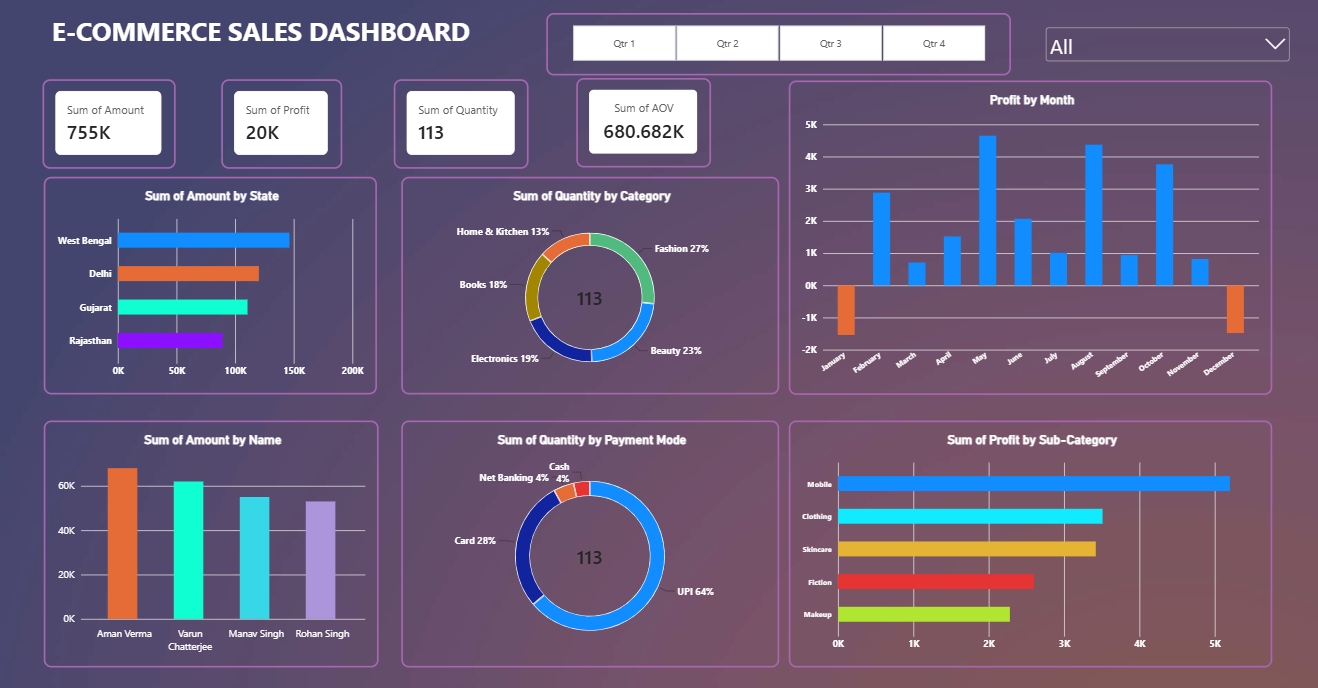

Layout of this report page (visuals, bound fields, positions):
{"tool":"powerbi","page":{"name":"Page 1","canvas":[1920,1080],"ordinal":0},"visuals":[{"type":"textbox","box":[0,57.9,765.5,77.8],"z":0},{"type":"textbox","box":[10.9,365.6,755,280],"z":1000},{"type":"textbox","box":[10,580,755,280],"z":2000},{"type":"textbox","box":[36,220,301,150],"z":3000},{"type":"textbox","box":[724,218,377,150],"z":4000},{"type":"columnChart","title":"Profit by Month","fields":{"Category":["sheet2.Date.Variation.Date Hierarchy.Month"],"Y":["Sum(sheet1.Profit)"]},"box":[1142.5,155,700,455],"z":5000},{"type":"barChart","fields":{"Category":["sheet1.Sub-Category"],"Y":["Sum(sheet1.Profit)"]},"box":[1142.5,647.5,700,357.5],"z":6000},{"type":"donutChart","fields":{"Category":["sheet1.Category"],"Y":["Sum(sheet1.Quantity)"]},"box":[580,295,547.5,315],"z":7000},{"type":"donutChart","fields":{"Y":["Sum(sheet1.Quantity)"],"Category":["sheet1.Payment Mode"]},"box":[580,647.5,547.5,357.5],"z":8000},{"type":"cardVisual","fields":{"Data":["Sum(sheet1.Amount)"]},"box":[61.7,154.4,192.6,129.4],"z":9000},{"type":"cardVisual","fields":{"Data":["Sum(sheet1.Profit)"]},"box":[321.1,154.4,175,129.7],"z":10000},{"type":"cardVisual","fields":{"Data":["Sum(sheet1.Quantity)"]},"box":[570.2,154.4,195.6,129.4],"z":11000},{"type":"cardVisual","fields":{"Data":["Sum(sheet1.AOV)"]},"box":[833.6,152.3,195.6,129.4],"z":12000},{"type":"barChart","fields":{"Category":["sheet2.State"],"Y":["Sum(sheet1.Amount)"]},"box":[62.5,295,482.5,315],"z":13000},{"type":"columnChart","fields":{"Category":["sheet2.Name"],"Y":["Sum(sheet1.Amount)"]},"box":[62.5,647.5,485,357.5],"z":14000},{"type":"slicer","fields":{"Values":["sheet2.Date.Variation.Date Hierarchy.Quarter"]},"box":[790,57.5,672.5,90],"z":15000},{"type":"slicer","fields":{"Values":["sheet2.State"]},"box":[1510,75,362.5,60],"z":16000}]}

Visuals, with their boxes on the page's 1920x1080 design canvas (x1, y1, x2, y2). These are canvas units, not pixel positions in the 1318x688 screenshot, which may show the page scaled, cropped or inside an application window:
textbox: box=[0, 58, 766, 136]
textbox: box=[11, 366, 766, 646]
textbox: box=[10, 580, 765, 860]
textbox: box=[36, 220, 337, 370]
textbox: box=[724, 218, 1101, 368]
"Profit by Month" columnChart: box=[1142, 155, 1842, 610]
barChart - sheet1.Sub-Category x Sum(sheet1.Profit): box=[1142, 648, 1842, 1005]
donutChart - sheet1.Category x Sum(sheet1.Quantity): box=[580, 295, 1128, 610]
donutChart - Sum(sheet1.Quantity) x sheet1.Payment Mode: box=[580, 648, 1128, 1005]
cardVisual - Sum(sheet1.Amount): box=[62, 154, 254, 284]
cardVisual - Sum(sheet1.Profit): box=[321, 154, 496, 284]
cardVisual - Sum(sheet1.Quantity): box=[570, 154, 766, 284]
cardVisual - Sum(sheet1.AOV): box=[834, 152, 1029, 282]
barChart - sheet2.State x Sum(sheet1.Amount): box=[62, 295, 545, 610]
columnChart - sheet2.Name x Sum(sheet1.Amount): box=[62, 648, 548, 1005]
slicer - sheet2.Date.Variation.Date Hierarchy.Quarter: box=[790, 58, 1462, 148]
slicer - sheet2.State: box=[1510, 75, 1872, 135]
